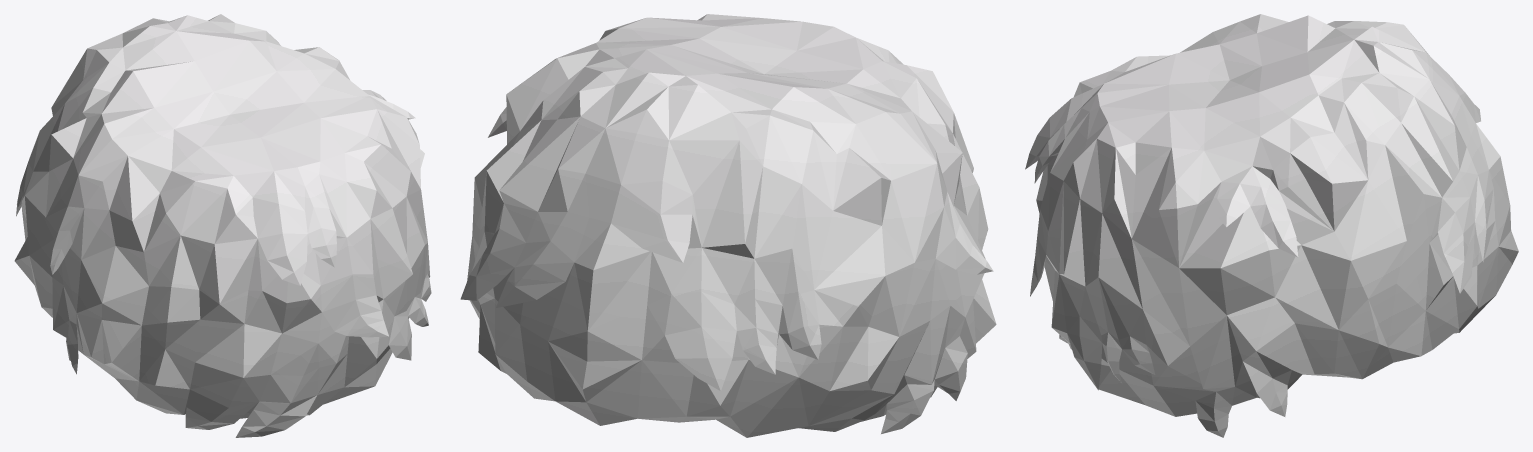
File: CharSkyKid_Hat_FeastFurHat.glb
The picture shows the model from 3 angles, left to right: view 1: azimuth 30°, elevation 25°; view 2: azimuth 150°, elevation 25°; view 3: azimuth 270°, elevation 25°; orthographic projection. The views are drawn at different scales.
Visible parts, largest first — view 1: CharSkyKid_Hat_FeastFurHat; view 2: CharSkyKid_Hat_FeastFurHat; view 3: CharSkyKid_Hat_FeastFurHat.
Boxes of the visible parts, <box> form: CharSkyKid_Hat_FeastFurHat: <box>14,14,431,437</box>; CharSkyKid_Hat_FeastFurHat: <box>460,14,996,437</box>; CharSkyKid_Hat_FeastFurHat: <box>1025,14,1518,437</box>.
Bounding box in the file's own units: 4.11 × 3.27 × 4.38.
Materials: 1 (1 with a texture image).
